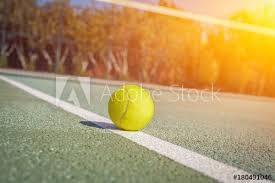tennis_ball: (106, 84, 155, 131)
